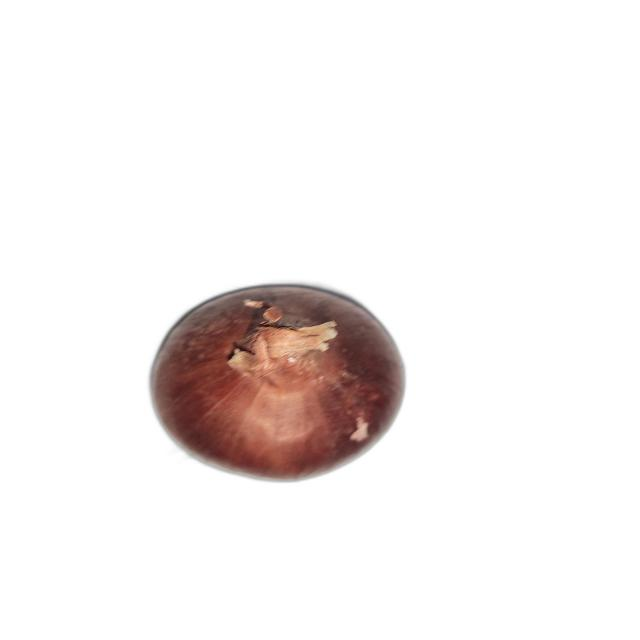onion: (149, 283, 406, 482)
